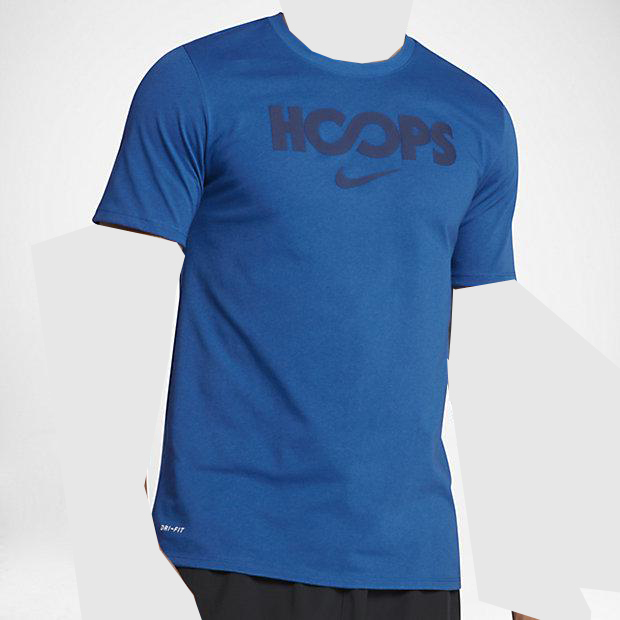teeshirt: (93, 9, 527, 607)
